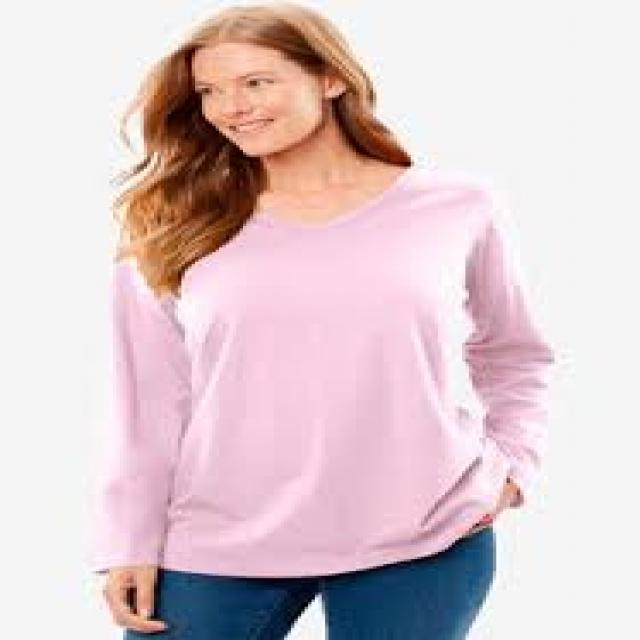plain: (90, 146, 562, 576)
